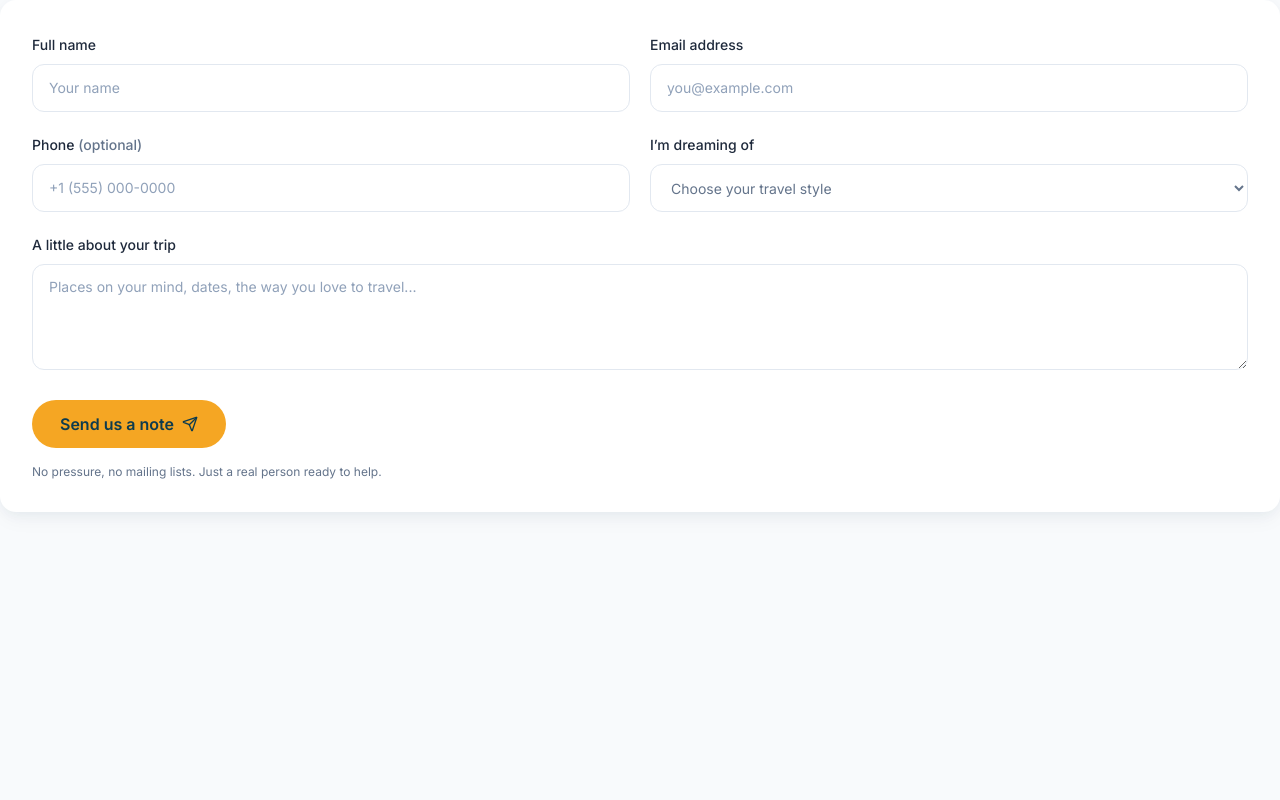
Scenario: ContactForm › shows validation errors on empty submission
What coordinates should you click on to do the following:
click the button "Send us a note"
I would click on:
 (129, 424)
Its box is [32,400,226,448].
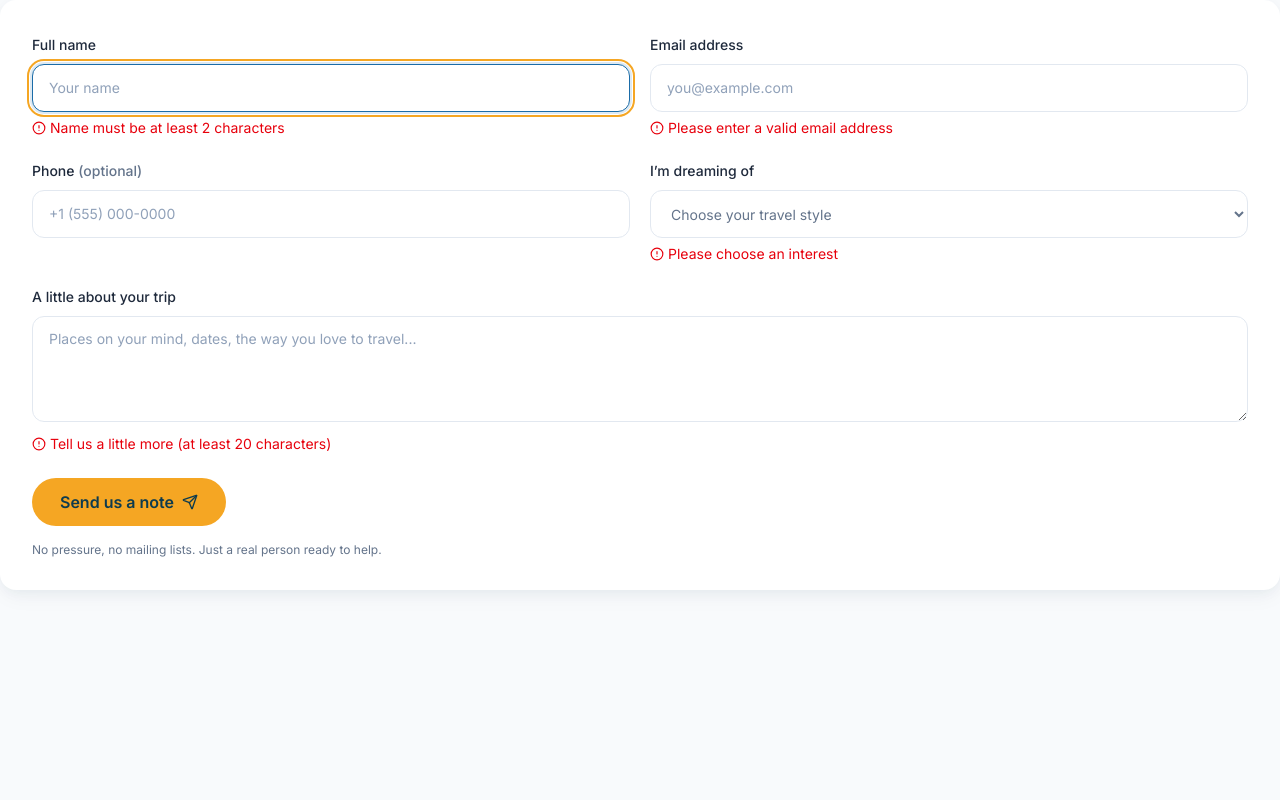
Check: the text "Name must be at least 2 characters" is shown, box [32,119,285,136]
Check: the text "Please enter a valid email address" is shown, box [650,119,893,136]
